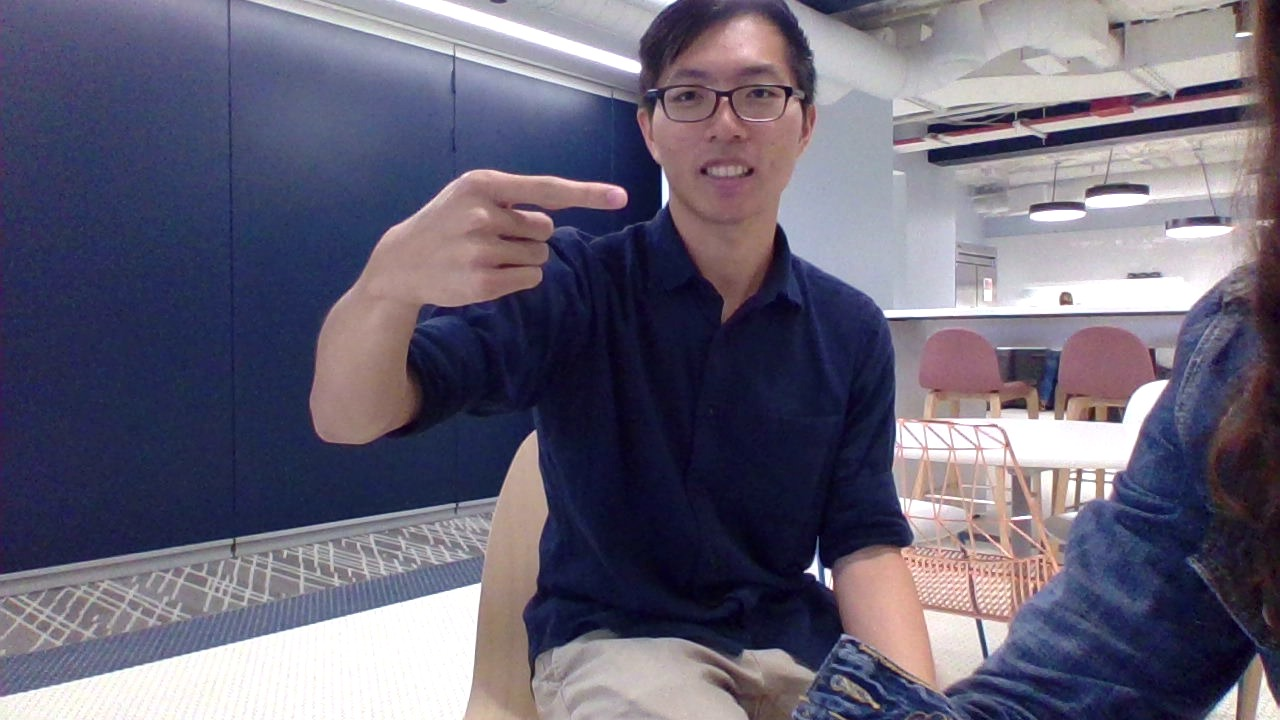g: (356, 154, 655, 326)
